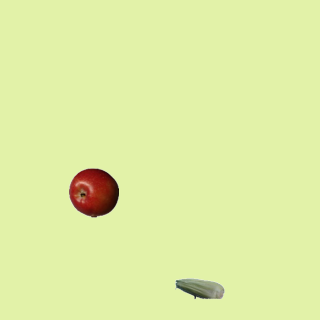Apple Braeburn: (68, 167, 118, 217)
Corn Husk: (174, 263, 224, 313)
